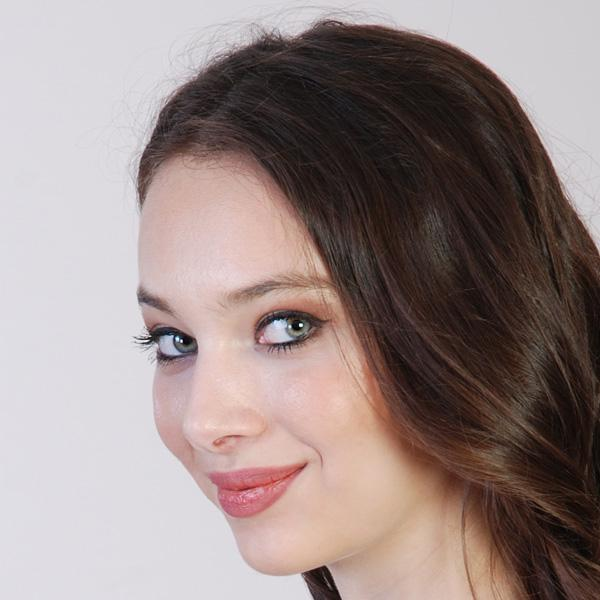Eyes: (243, 301, 333, 356), (141, 312, 205, 369)
